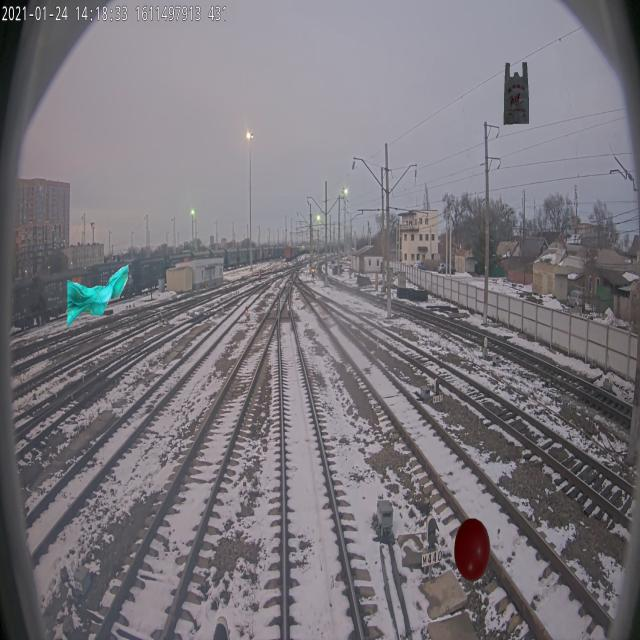balloon: (454, 518, 490, 582)
floating object: (66, 264, 129, 328)
plastic bag: (504, 61, 529, 125)
